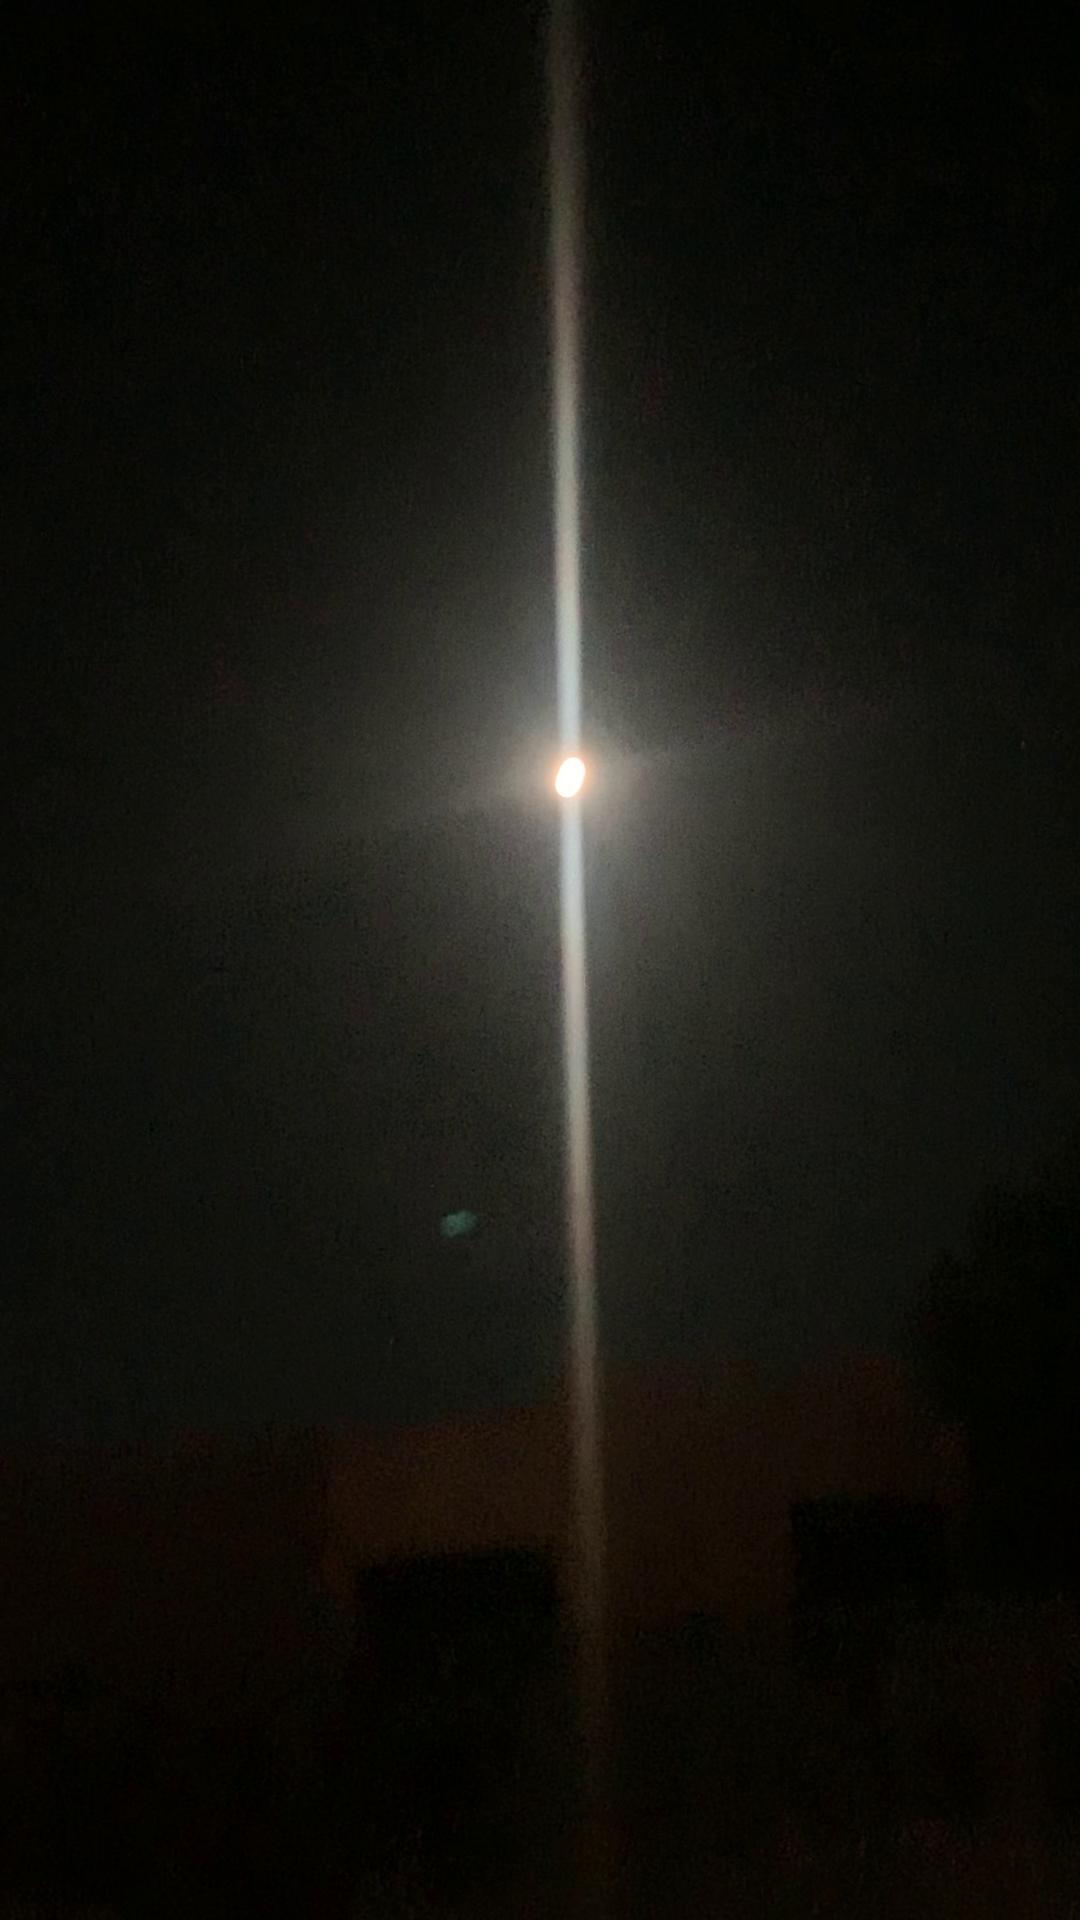moon: (524, 737, 628, 819)
